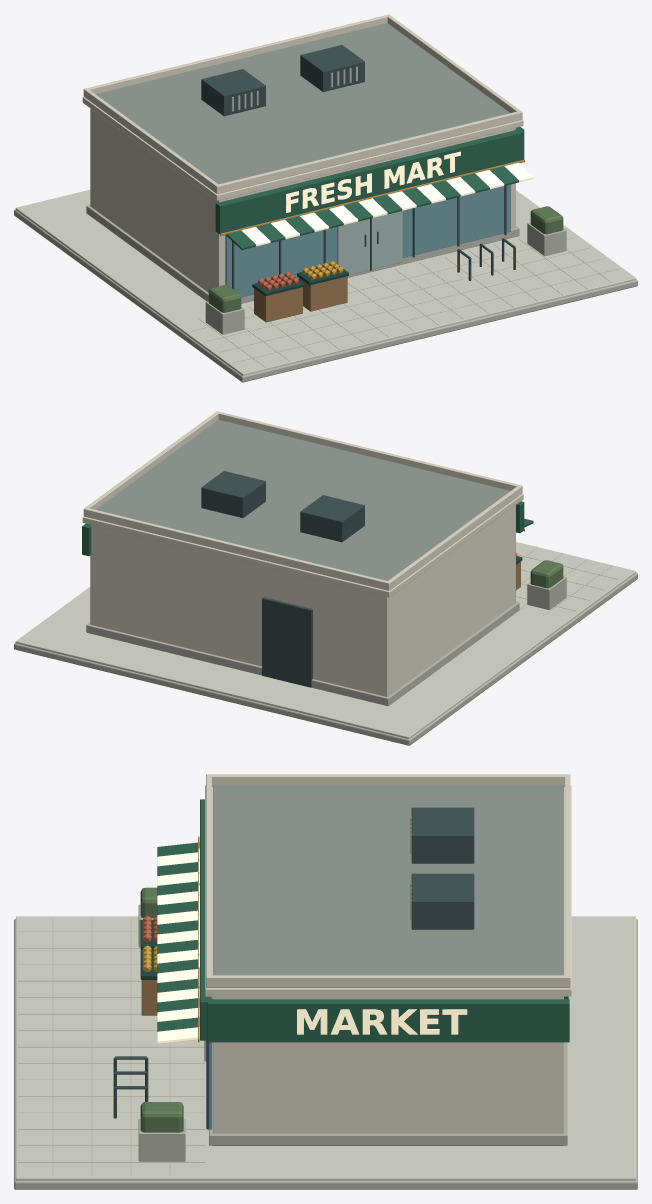
The model's file is small-4x4-market-03.glb.
3 views of the same model, one above another, from view 1: azimuth 30°, elevation 25°; view 2: azimuth 150°, elevation 25°; view 3: azimuth 270°, elevation 25° (orthographic). The views are drawn at different scales.
Parts seen in each view (by area): view 1: LotPaving, RoofDeck, MarketBody, FrontGlazing, Sign, Lot_4x4, Roof, Entrance, Parapet, Parapet.001, Base, HVAC (+11 smaller); view 2: MarketBody, RoofDeck, LotPaving, Lot_4x4, DeliveryDoor, Base, Roof, Parapet.001, Parapet, HVAC, HVAC.001, Parapet.002 (+3 smaller); view 3: LotPaving, RoofDeck, MarketBody, SideSign, Lot_4x4, Base, Parapet.003, Roof, Parapet.002, HVAC, HVAC.001, SideName (+6 smaller).
Part boxes in pixels (x1=…): LotPaving: x1=15, y1=189, x2=636, y2=375; RoofDeck: x1=95, y1=23, x2=509, y2=184; MarketBody: x1=90, y1=108, x2=515, y2=292; FrontGlazing: x1=225, y1=184, x2=510, y2=297; Sign: x1=215, y1=130, x2=524, y2=234; Lot_4x4: x1=14, y1=209, x2=637, y2=382; Roof: x1=82, y1=97, x2=523, y2=200; Entrance: x1=337, y1=211, x2=402, y2=275; Parapet: x1=215, y1=110, x2=522, y2=193; Parapet.001: x1=83, y1=14, x2=390, y2=97; Base: x1=86, y1=205, x2=519, y2=303; HVAC: x1=201, y1=69, x2=265, y2=116; MarketBody: x1=90, y1=505, x2=515, y2=696; RoofDeck: x1=96, y1=420, x2=510, y2=580; LotPaving: x1=15, y1=542, x2=636, y2=739; Lot_4x4: x1=14, y1=573, x2=637, y2=745; DeliveryDoor: x1=262, y1=597, x2=312, y2=687; Base: x1=86, y1=602, x2=519, y2=706; Roof: x1=82, y1=493, x2=523, y2=597; Parapet.001: x1=83, y1=507, x2=390, y2=590; Parapet: x1=215, y1=411, x2=522, y2=493; HVAC: x1=300, y1=495, x2=364, y2=542; HVAC.001: x1=201, y1=471, x2=265, y2=517; Parapet.002: x1=387, y1=486, x2=520, y2=589; LotPaving: x1=16, y1=916, x2=635, y2=1180; RoofDeck: x1=213, y1=785, x2=563, y2=975; MarketBody: x1=213, y1=996, x2=563, y2=1145; SideSign: x1=207, y1=998, x2=569, y2=1042; Lot_4x4: x1=14, y1=918, x2=637, y2=1189; Base: x1=209, y1=996, x2=567, y2=1145; Parapet.003: x1=209, y1=975, x2=566, y2=987; Roof: x1=205, y1=785, x2=571, y2=996; Parapet.002: x1=210, y1=774, x2=566, y2=786; HVAC: x1=411, y1=807, x2=474, y2=863; HVAC.001: x1=411, y1=873, x2=474, y2=929; SideName: x1=297, y1=1009, x2=467, y2=1034.
Size of the model in its own units: 16 by 5.77 by 16.
